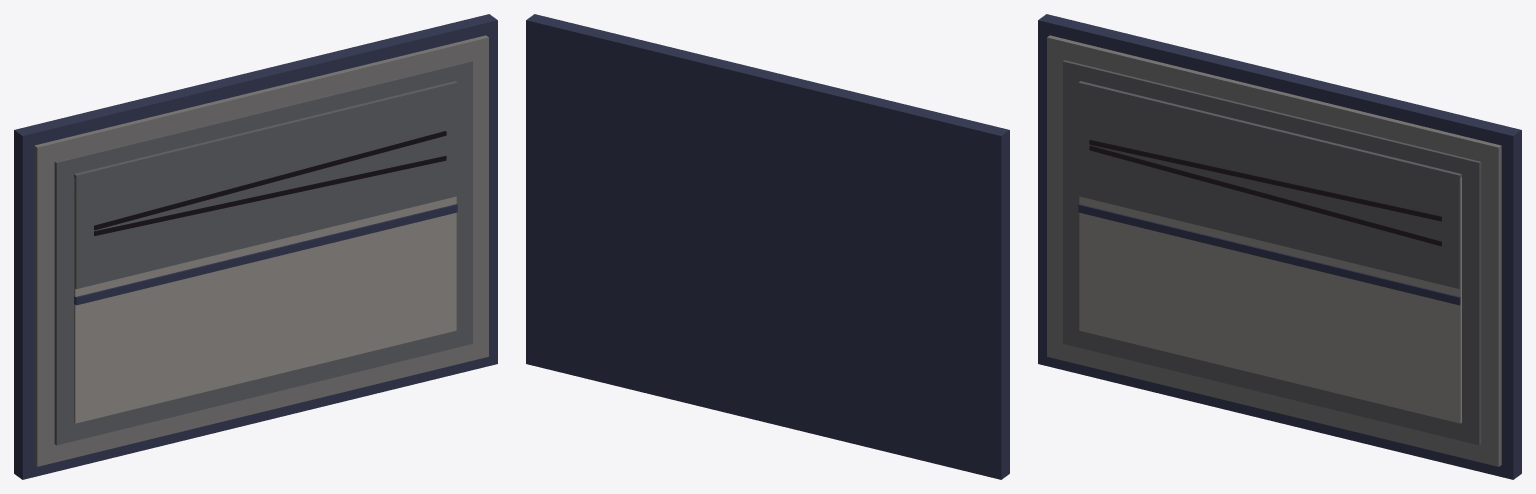
File: painel_riscado_v4.glb
3 renders of one model, left to right at view 1: azimuth 30°, elevation 25°; view 2: azimuth 150°, elevation 25°; view 3: azimuth 330°, elevation 25°, orthographic.
Visible parts, largest first — view 1: Moldura_0, _MeshInstance3D_3069_1, _MeshInstance3D_3068_2; view 2: Moldura_0; view 3: Moldura_0, _MeshInstance3D_3068_2, _MeshInstance3D_3069_1.
Boxes of the visible parts, bbox=[...] form: Moldura_0: bbox=[14, 14, 497, 479]; _MeshInstance3D_3069_1: bbox=[94, 131, 446, 230]; _MeshInstance3D_3068_2: bbox=[94, 156, 446, 235]; Moldura_0: bbox=[526, 14, 1009, 479]; Moldura_0: bbox=[1038, 14, 1521, 479]; _MeshInstance3D_3068_2: bbox=[1089, 145, 1441, 246]; _MeshInstance3D_3069_1: bbox=[1089, 140, 1441, 221].
Size of the model in its own units: 1.62 by 1.12 by 0.111.
